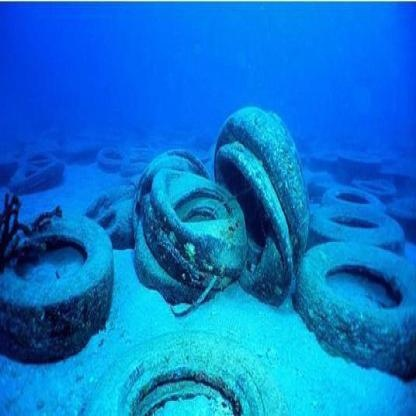tire: (301, 220, 416, 377), (1, 216, 113, 358), (226, 106, 311, 288), (134, 155, 244, 288), (88, 338, 273, 416), (301, 180, 412, 274), (325, 171, 395, 227), (92, 128, 132, 174)
